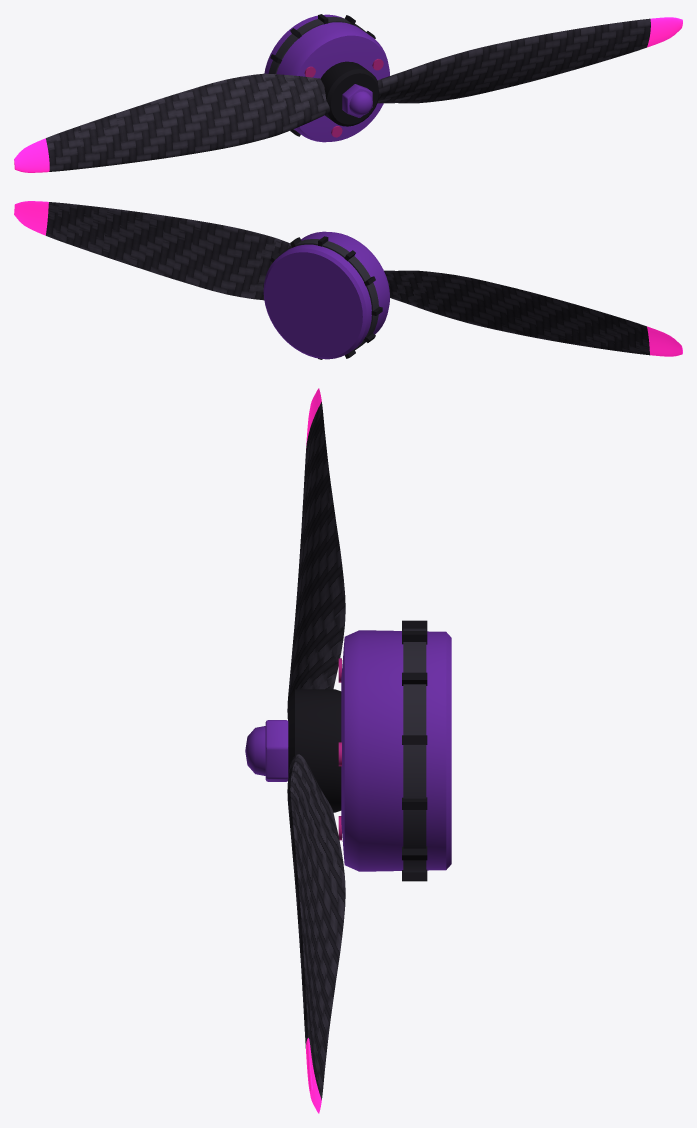
File: wyvern_rotor_ccw.glb
3 renders of one model, top to bottom at view 1: azimuth 30°, elevation 25°; view 2: azimuth 150°, elevation 25°; view 3: azimuth 270°, elevation 25°, orthographic. The views are drawn at different scales.
Parts seen in each view (by area): view 1: wyvern_rotor_ccw; view 2: wyvern_rotor_ccw; view 3: wyvern_rotor_ccw.
Part boxes in pixels (bbox=[...]): wyvern_rotor_ccw: bbox=[14, 14, 682, 172]; wyvern_rotor_ccw: bbox=[14, 201, 682, 359]; wyvern_rotor_ccw: bbox=[245, 388, 451, 1113].
Size of the model in its own units: 0.2792 by 0.0472 by 0.0374.
6 materials, 1 textured.
